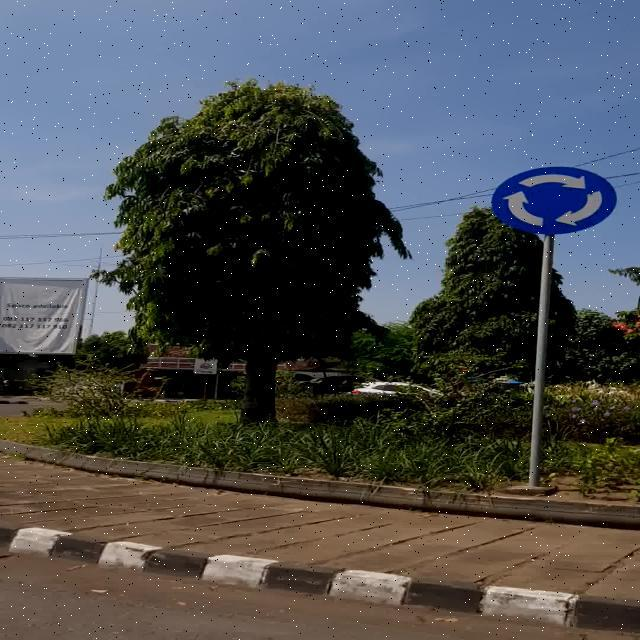Ikuti Bundaran: (492, 166, 617, 234)
